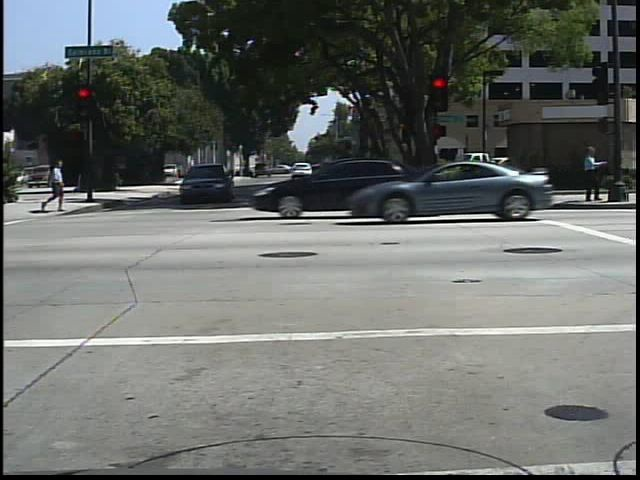person: (577, 143, 609, 209), (43, 157, 66, 216)
